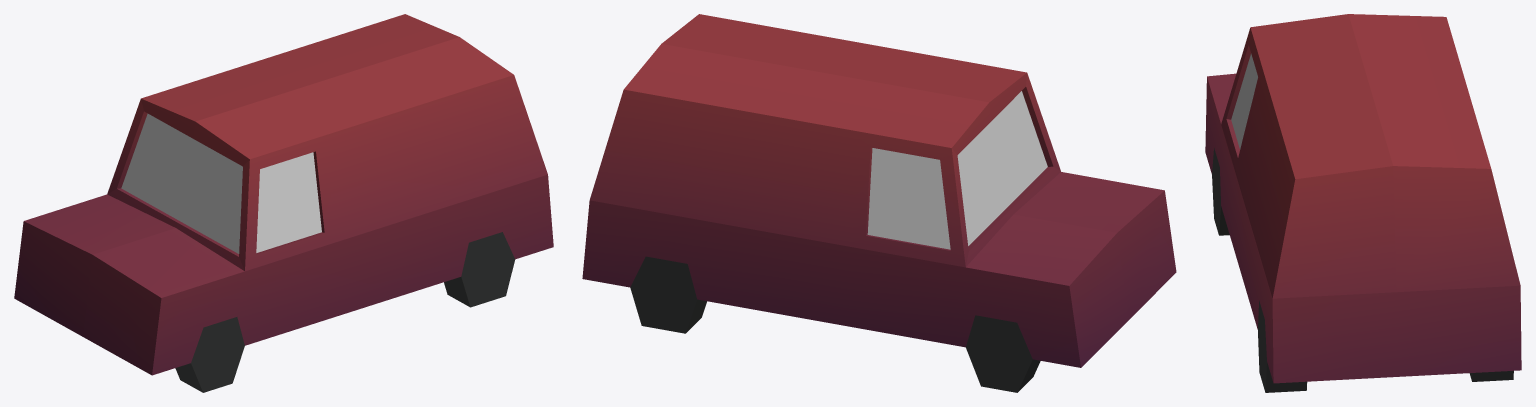
The model's file is Van.fbx.
3 renders of one model, left to right at view 1: azimuth 30°, elevation 25°; view 2: azimuth 150°, elevation 25°; view 3: azimuth 270°, elevation 25°, orthographic. The views are drawn at different scales.
Parts seen in each view (by area): view 1: VaN; view 2: VaN; view 3: VaN.
Boxes of the visible parts, left/top/right/bottom form: VaN: left=14, top=14, right=553, bottom=392; VaN: left=582, top=14, right=1176, bottom=392; VaN: left=1205, top=14, right=1521, bottom=392.
Bounding box in the file's own units: 135 × 60.11 × 73.81.
